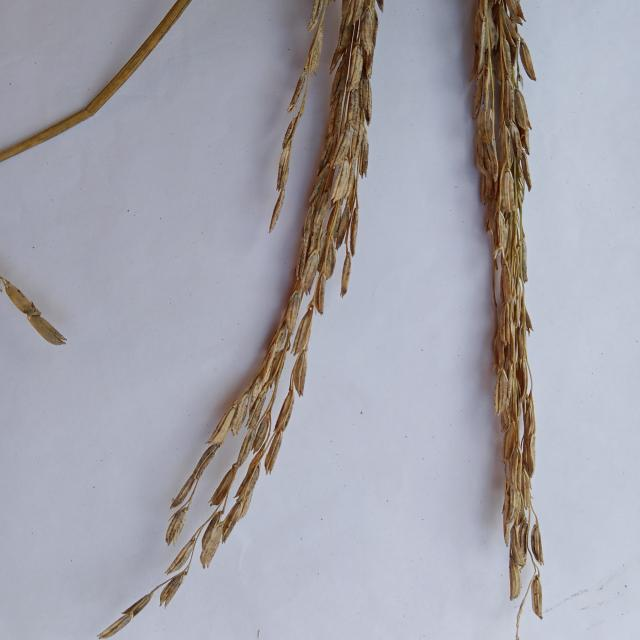Neck_Blast: (229, 2, 375, 445), (477, 2, 547, 554)
